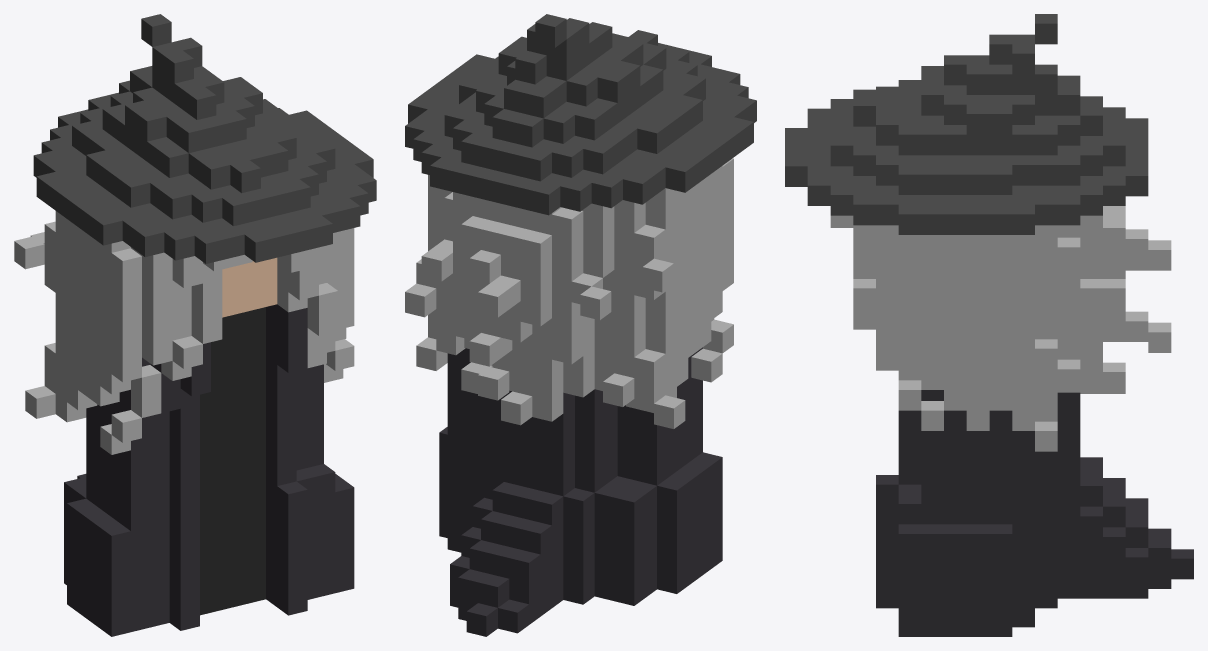
File: Bruxa 01 - Andando-00.obj
The picture shows the model from 3 angles, left to right: view 1: azimuth 30°, elevation 25°; view 2: azimuth 150°, elevation 25°; view 3: azimuth 270°, elevation 25°; orthographic projection. The views are drawn at different scales.
Bounding box in the file's own units: 14 × 27 × 18.
1 material, 1 textured.
